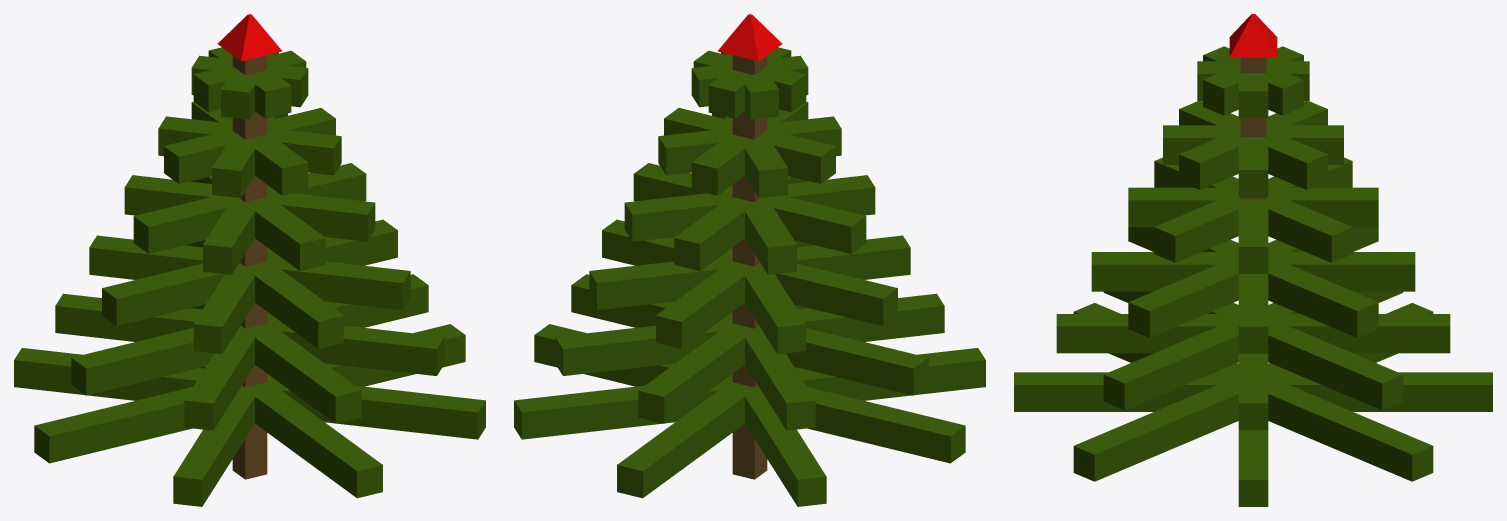
The model's file is 047 Xmas_Tree.fbx.
The picture shows the model from 3 angles, left to right: view 1: azimuth 30°, elevation 25°; view 2: azimuth 150°, elevation 25°; view 3: azimuth 270°, elevation 25°; orthographic projection.
Visible parts, largest first — view 1: Lowpoly_Christmas_Pack_047:pCube26; view 2: Lowpoly_Christmas_Pack_047:pCube26; view 3: Lowpoly_Christmas_Pack_047:pCube26.
Part boxes in pixels (<box>): Lowpoly_Christmas_Pack_047:pCube26: <box>14,14,485,506</box>; Lowpoly_Christmas_Pack_047:pCube26: <box>514,14,985,506</box>; Lowpoly_Christmas_Pack_047:pCube26: <box>1014,14,1492,506</box>.
Bounding box in the file's own units: 2.86 × 3 × 2.86.
